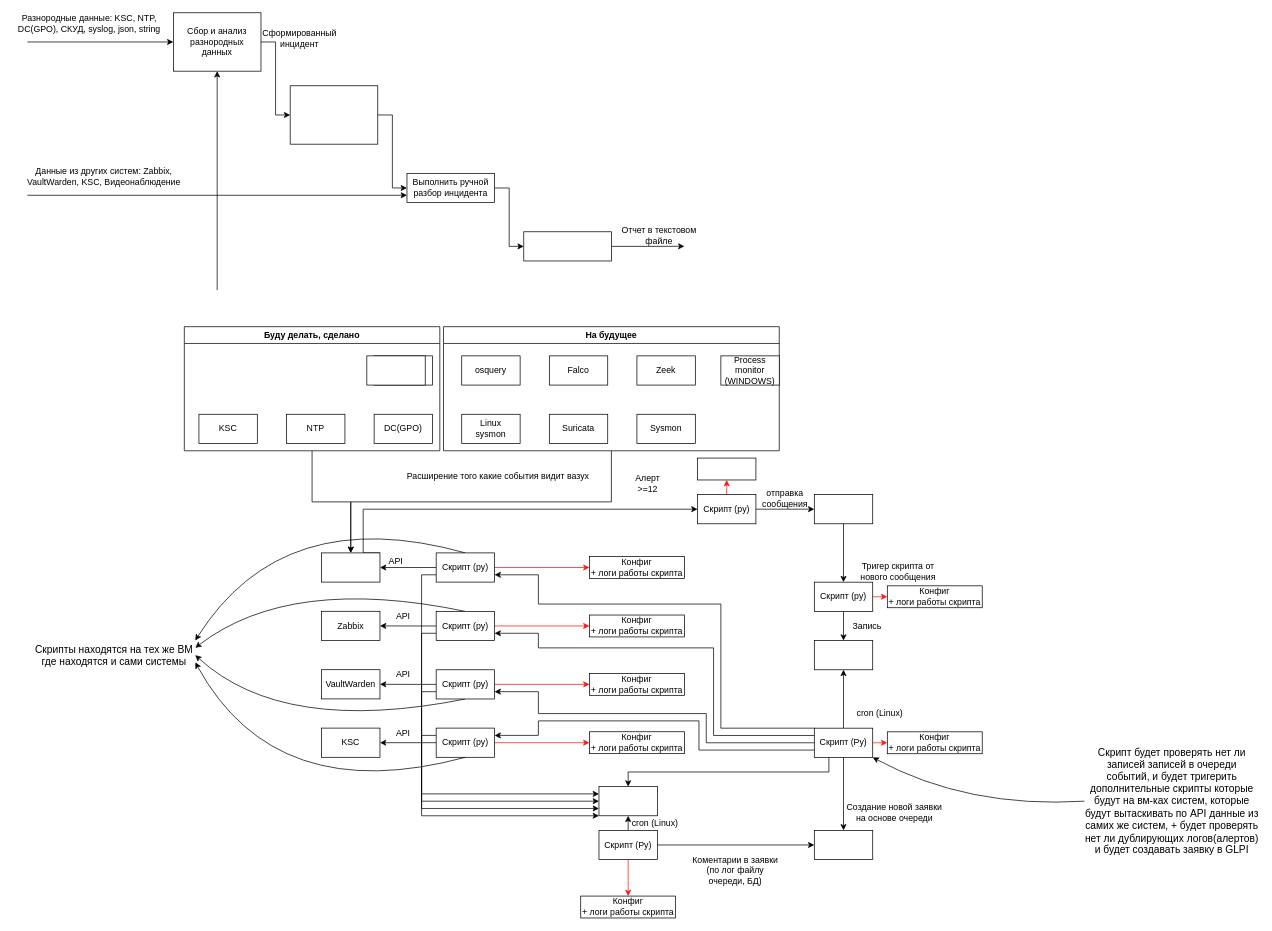
Image size: 1272x931. Some labels were removed from this diagram. Here are the shapes that lost their labels. From the top down, the centre of each, then its label:
the point at 333,114: Получить уведомления об инциденте на корпоративную почту
the point at 567,246: Сформировать отчет об инциденте
the point at 395,370: СКУД
the point at 726,468: Конфиг
the point at 843,509: MatterMost
the point at 350,567: Wazuh кластер
the point at 843,655: Лог файл (очередь событий)
the point at 627,801: Лог файл (очередь событий, БД)
the point at 843,845: GLPI (инциденты)
